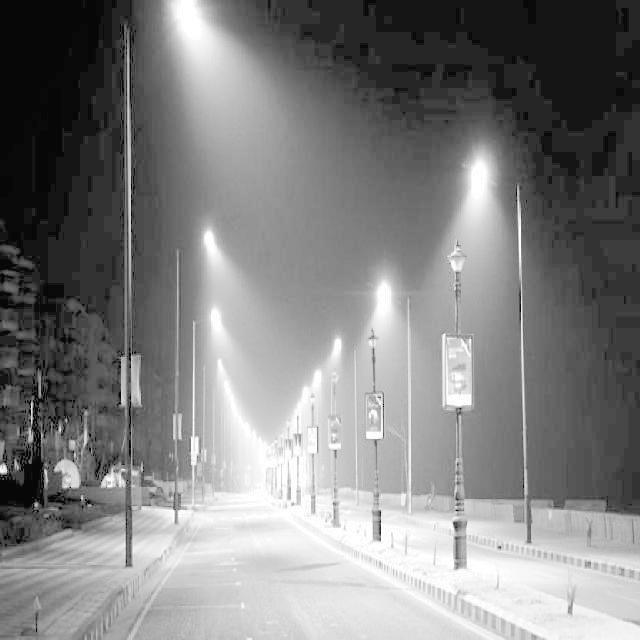Light: (164, 0, 268, 167), (460, 146, 510, 305), (199, 227, 242, 292), (374, 281, 406, 367), (326, 337, 349, 392), (207, 306, 230, 349), (314, 365, 326, 408), (303, 379, 312, 416), (216, 354, 227, 380), (219, 377, 232, 394), (292, 396, 303, 416), (242, 419, 251, 438), (248, 428, 257, 445), (262, 438, 270, 456), (227, 394, 236, 407), (230, 406, 239, 419), (256, 435, 263, 450), (237, 415, 246, 426)
